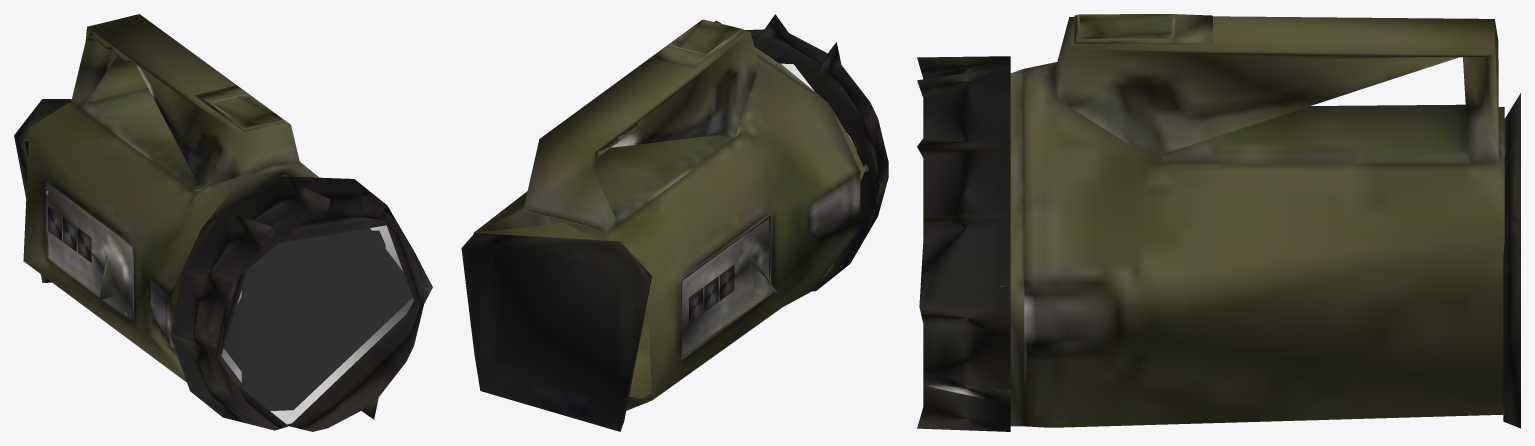
Rendered from portable_searchlight_lod.glb.
3 views of the same model, side by side, from view 1: azimuth 30°, elevation 25°; view 2: azimuth 150°, elevation 25°; view 3: azimuth 270°, elevation 25° (orthographic). The views are drawn at different scales.
Visible parts, largest first — view 1: portable_searchlight; view 2: portable_searchlight; view 3: portable_searchlight.
Boxes of the visible parts, bbox=[...] form: portable_searchlight: bbox=[14, 14, 432, 431]; portable_searchlight: bbox=[461, 14, 888, 431]; portable_searchlight: bbox=[917, 14, 1520, 431].
Size of the model in its own units: 0.1575 by 0.1786 by 0.2521.
Materials: 2 (2 with a texture image).
